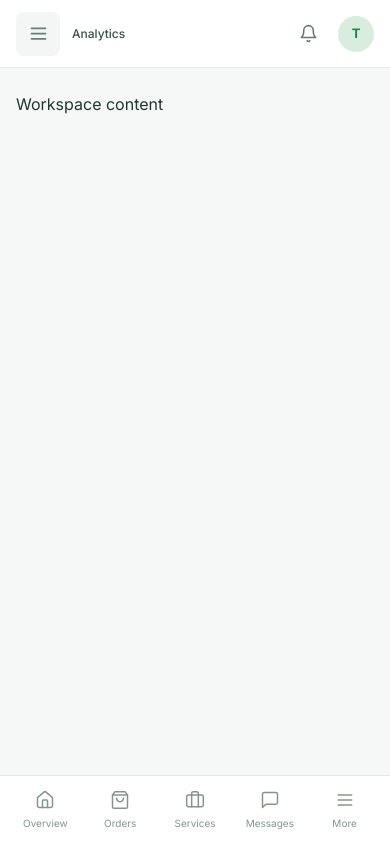
Scenario: workspace navigation › shows seller analytics and closes the mobile drawer with Escape
The width and height of the screenshot is (390, 844).
Click the button named "Open workspace menu" at (38, 34), box [16,12,60,56]
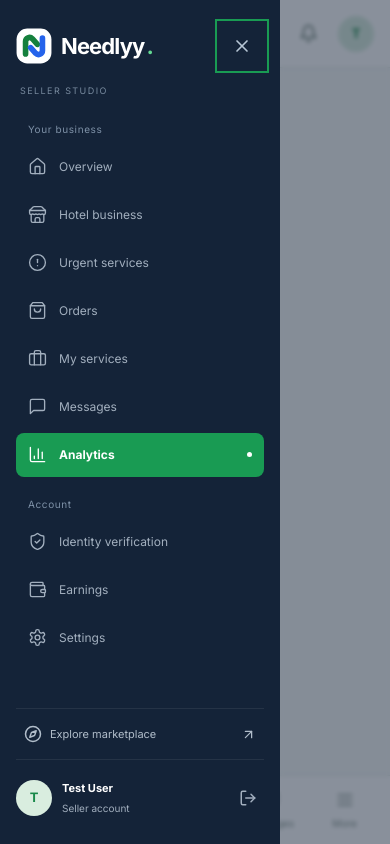
Result: the button named "Open workspace menu" is expanded at [16,12,60,56]
Press Escape
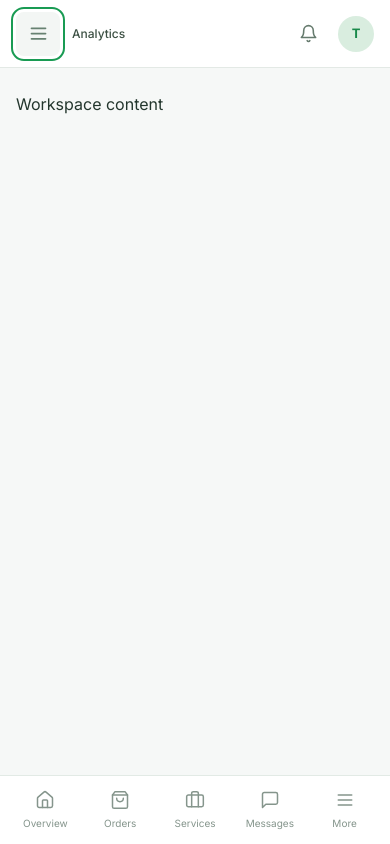
Result: the button named "Open workspace menu" is collapsed at [16,12,60,56]
